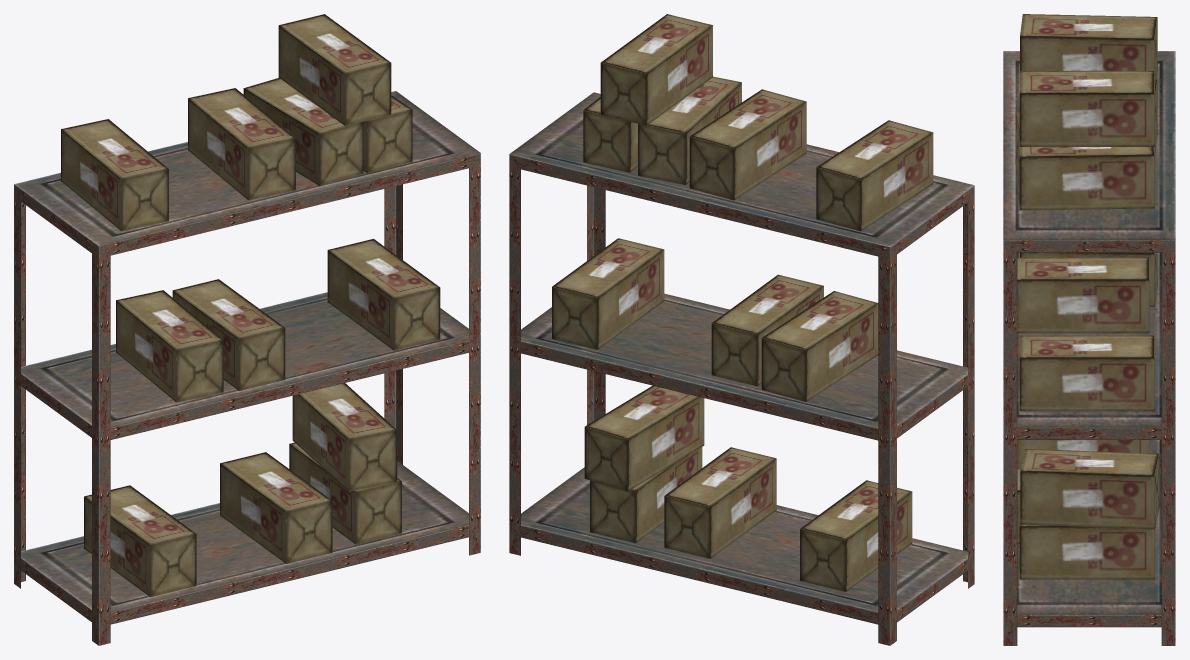
File: storage_shelves_small.fbx
The picture shows the model from 3 angles, left to right: view 1: azimuth 30°, elevation 25°; view 2: azimuth 150°, elevation 25°; view 3: azimuth 270°, elevation 25°; orthographic projection.
Parts seen in each view (by area): view 1: mesh_1, mesh_0; view 2: mesh_1, mesh_0; view 3: mesh_1, mesh_0.
Boxes of the visible parts, bbox=[...] form: mesh_1: bbox=[61, 14, 440, 597]; mesh_0: bbox=[14, 91, 480, 645]; mesh_1: bbox=[552, 14, 933, 591]; mesh_0: bbox=[509, 92, 974, 645]; mesh_1: bbox=[1015, 14, 1159, 579]; mesh_0: bbox=[1003, 51, 1175, 645].
Bounding box in the file's own units: 130 × 164 × 50.
2 materials, 2 textured.
